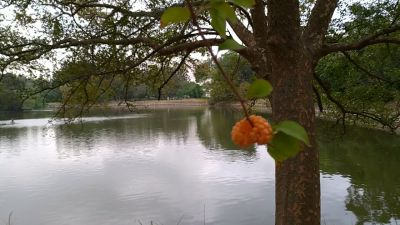eggs: (230, 114, 274, 150)
